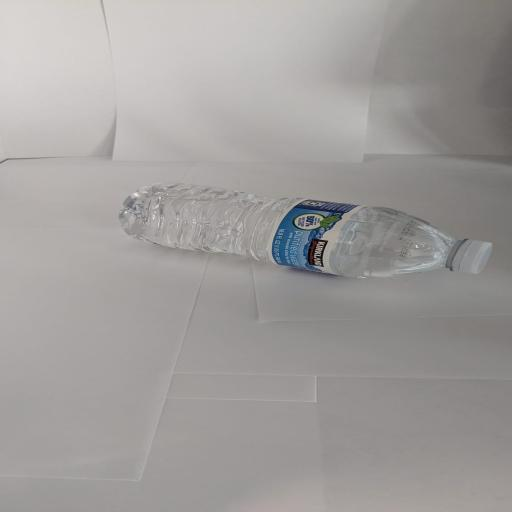waterbottle: (120, 183, 492, 277)
